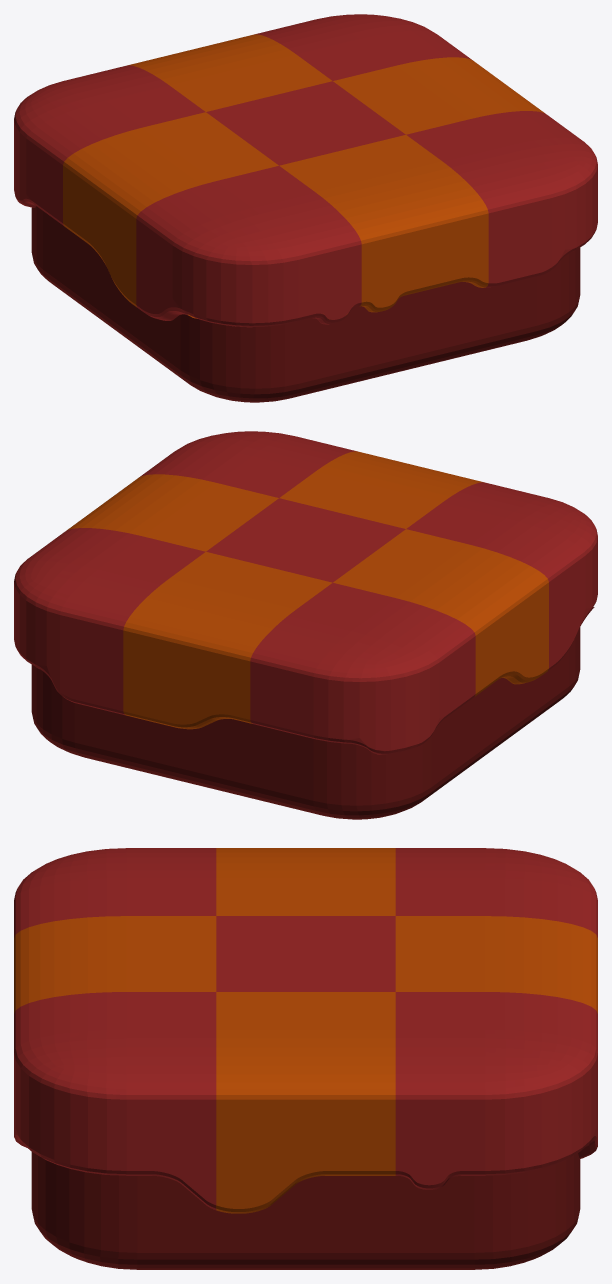
The model's file is GBlock3.fbx.
3 renders of one model, top to bottom at view 1: azimuth 30°, elevation 25°; view 2: azimuth 150°, elevation 25°; view 3: azimuth 270°, elevation 25°, orthographic. The views are drawn at different scales.
Visible parts, largest first — view 1: Cube.001, Cube.002, Cube; view 2: Cube.001, Cube.002, Cube; view 3: Cube.001, Cube.002, Cube.
Boxes of the visible parts, box(x1,y1,x2,y2) form: Cube.001: box(14, 14, 597, 327); Cube.002: box(63, 34, 545, 319); Cube: box(31, 206, 580, 402); Cube.001: box(14, 431, 597, 754); Cube.002: box(66, 451, 548, 729); Cube: box(31, 627, 580, 819); Cube.001: box(14, 848, 597, 1209); Cube.002: box(14, 848, 597, 1213); Cube: box(31, 1152, 580, 1269).
Size of the model in its own units: 216 by 91.88 by 216.
